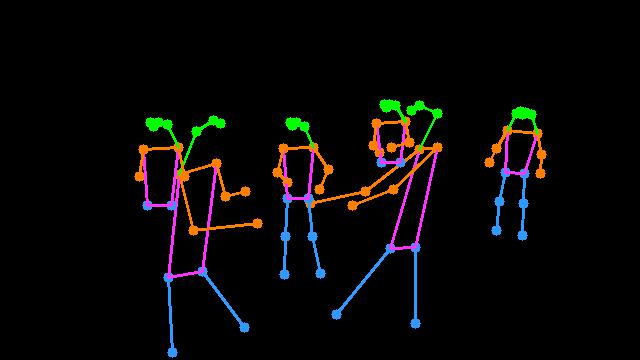normal: (263, 105, 340, 292), (478, 94, 558, 254)
